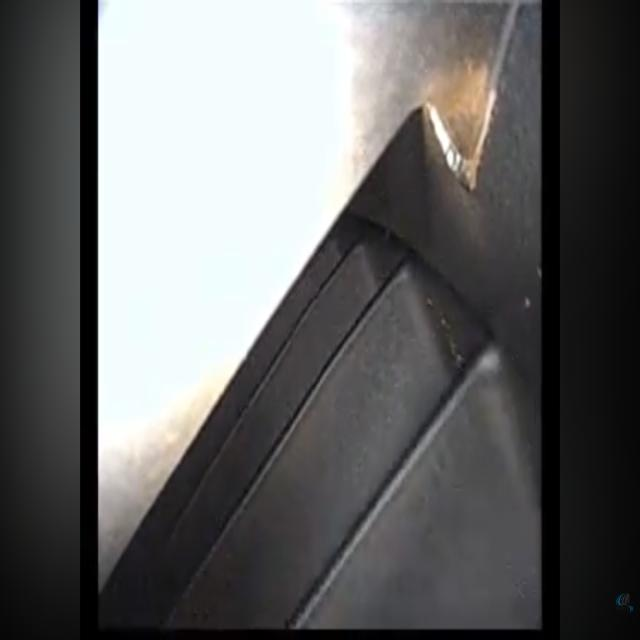turbine_blade: (169, 268, 458, 628), (301, 347, 541, 628)
